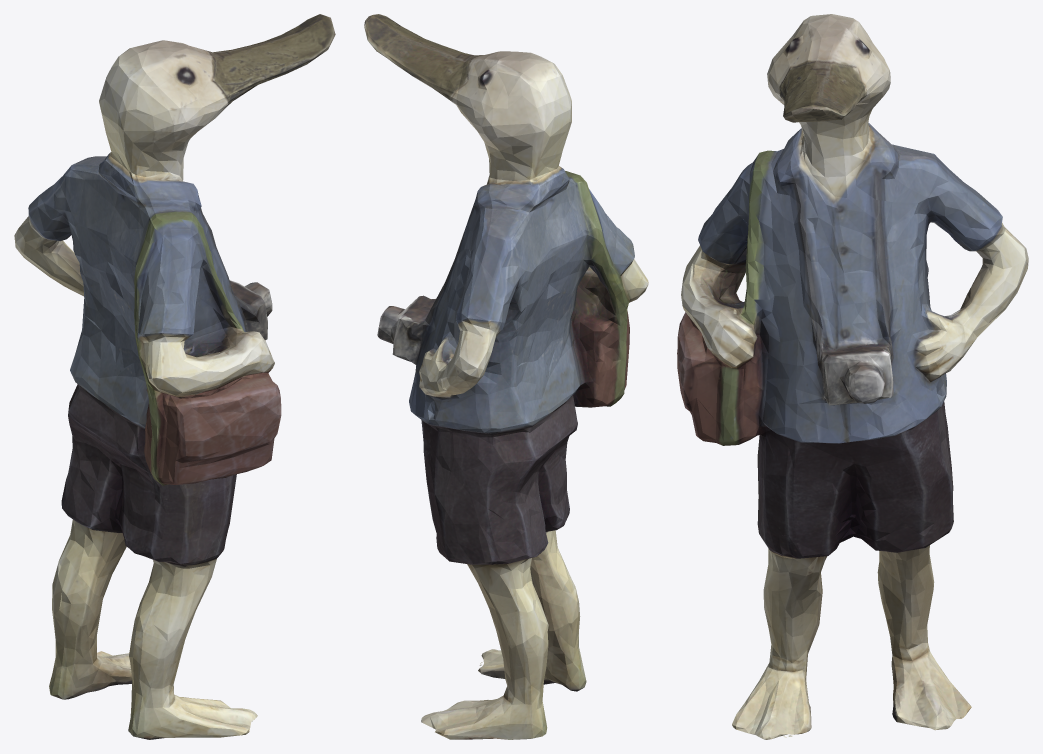
Rendered from duck-photographer.glb.
3 views of the same model, side by side, from view 1: azimuth 30°, elevation 25°; view 2: azimuth 150°, elevation 25°; view 3: azimuth 270°, elevation 25° (orthographic). The views are drawn at different scales.
Parts seen in each view (by area): view 1: duck_OBJ; view 2: duck_OBJ; view 3: duck_OBJ.
Part boxes in pixels (x1,y1,x2,y2): duck_OBJ: (14, 14, 335, 739); duck_OBJ: (364, 14, 648, 739); duck_OBJ: (677, 14, 1028, 739).
Bounding box in the file's own units: 8.79 × 23.68 × 11.
Materials: 1 (1 with a texture image).
